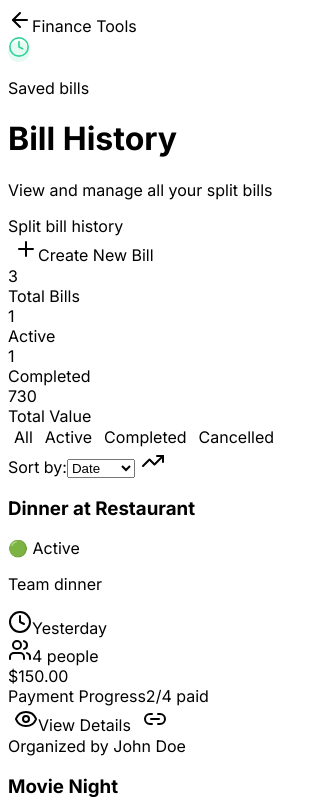
Test: BillHistoryPage › Filter Buttons › should filter bills by active status
The width and height of the screenshot is (320, 800).
Expected: the heading "Dinner at Restaurant" is shown, [8,497,195,520]
Click the button "Active".
click(68, 437)  # box [39,426,98,448]
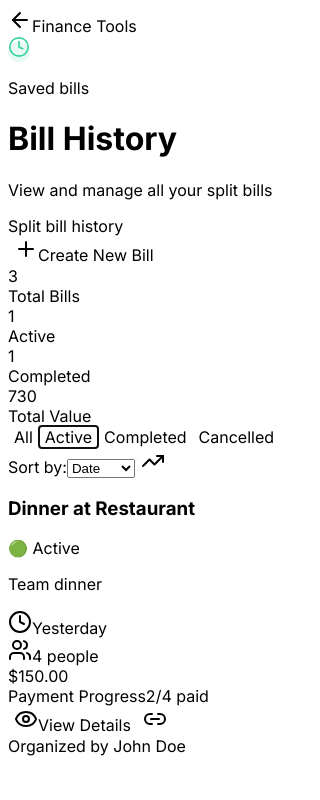
Expected: the heading "Dinner at Restaurant" is shown, [8,497,195,520]
Now the heading "Movie Night" is gone
